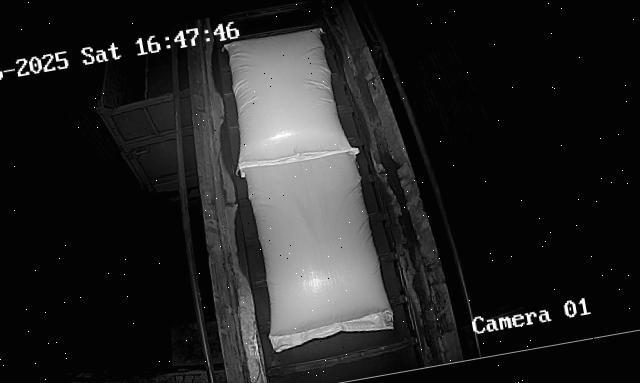bag: (240, 148, 396, 352), (218, 23, 357, 170)
